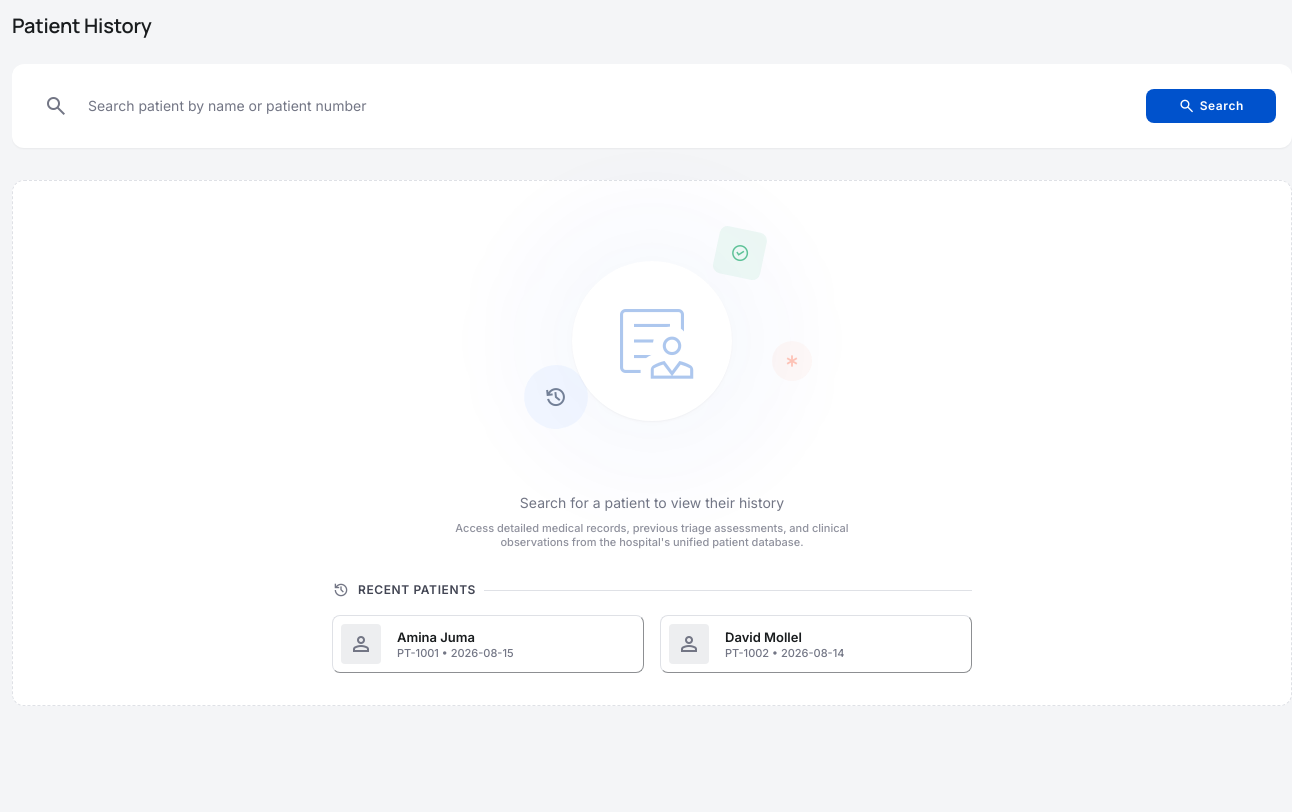
Test: TriageHistoryPage › searches for patient triage history records
Expected: the text "Amina Juma" is shown, [397, 629, 475, 645]
Type "Amina" into the field with placeholder "Search patient by name or patient number" at (595, 106), box [76, 88, 1114, 124]
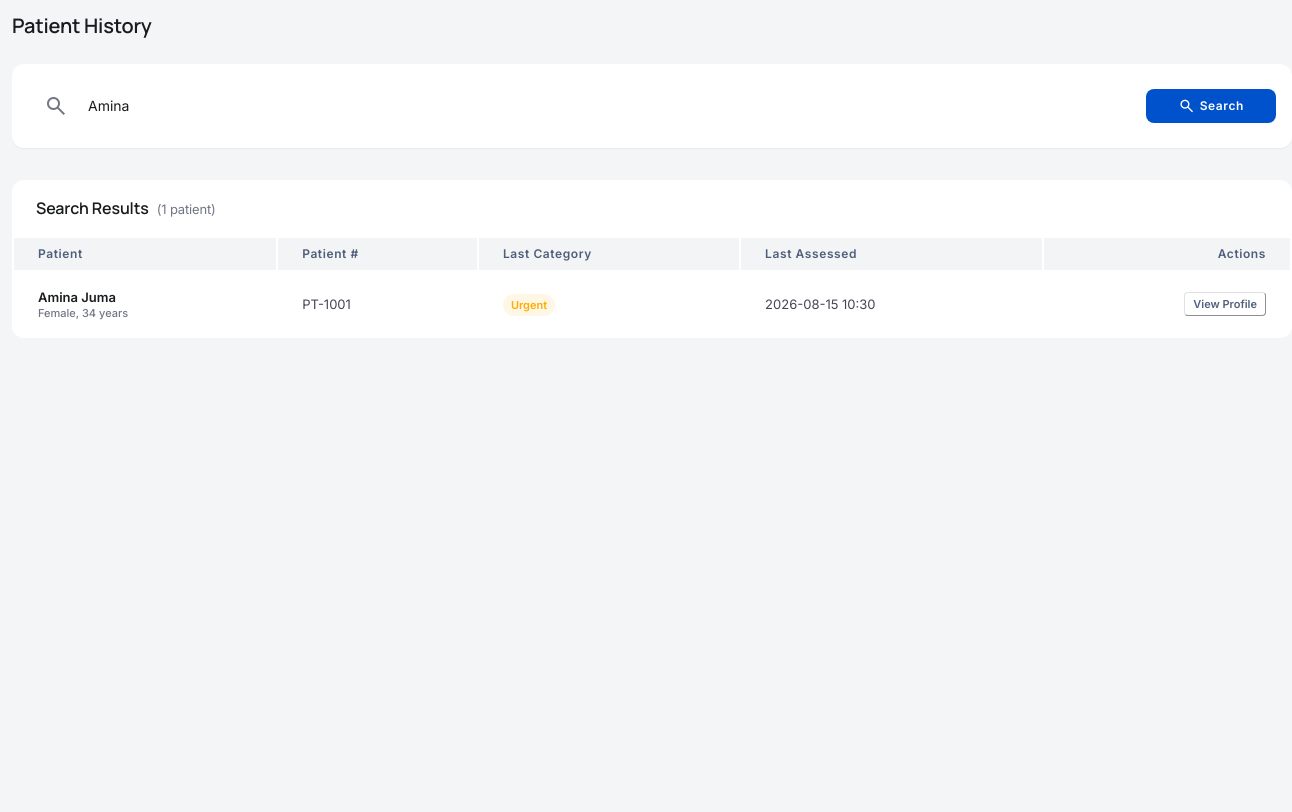
Now the heading "Search Results(1 patient)" is shown, box [36, 197, 216, 219]
